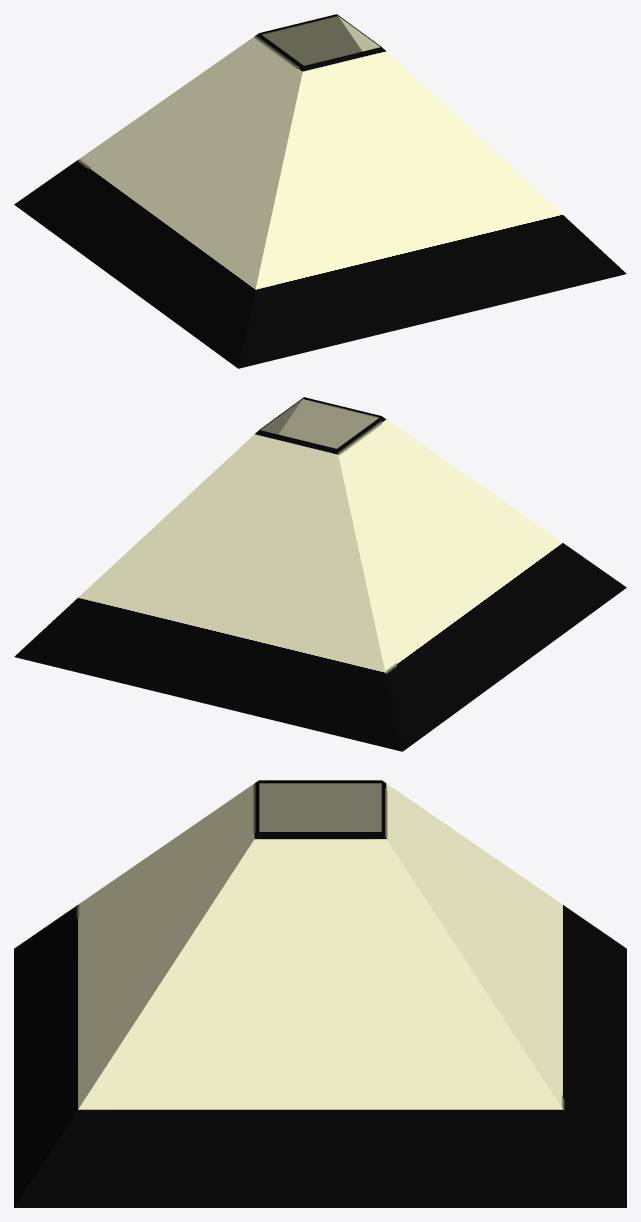
The model's file is ceiling_lamp_1_fake_light_2.obj.
The picture shows the model from 3 angles, top to bottom: view 1: azimuth 30°, elevation 25°; view 2: azimuth 150°, elevation 25°; view 3: azimuth 270°, elevation 25°; orthographic projection. The views are drawn at different scales.
Visible parts, largest first — view 1: ceiling_lamp_1_fake_light_2; view 2: ceiling_lamp_1_fake_light_2; view 3: ceiling_lamp_1_fake_light_2.
Boxes of the visible parts, x1,y1,x2,y2 form: ceiling_lamp_1_fake_light_2: (14, 14, 626, 368); ceiling_lamp_1_fake_light_2: (14, 397, 626, 751); ceiling_lamp_1_fake_light_2: (14, 780, 626, 1207).
Bounding box in the file's own units: 5 × 2.45 × 5.
